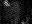person: (3, 2, 12, 6)
